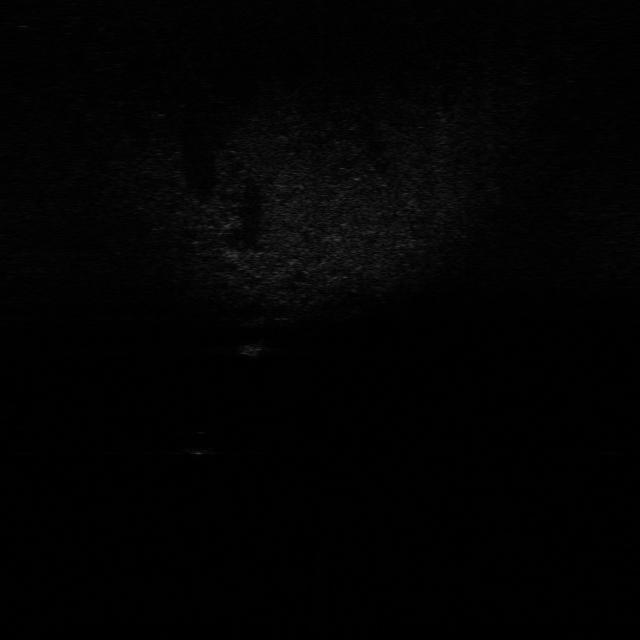ball: (182, 428, 224, 458)
cube: (236, 337, 270, 360)
